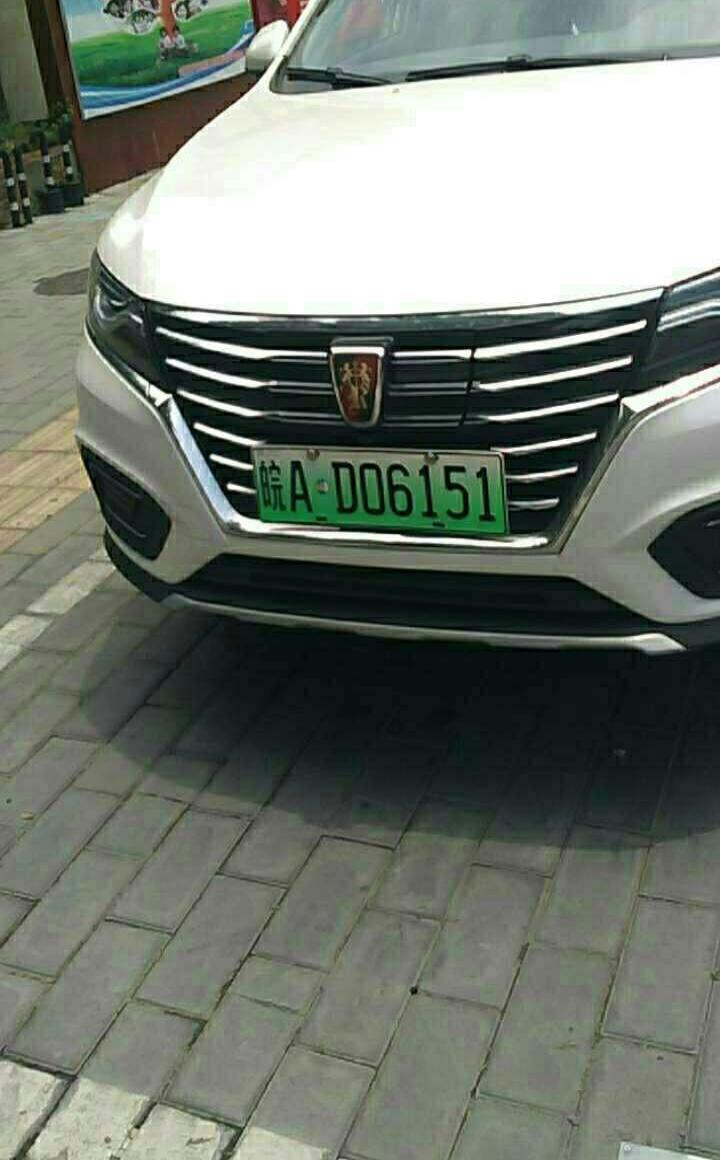car_id: (250, 448, 502, 529)
